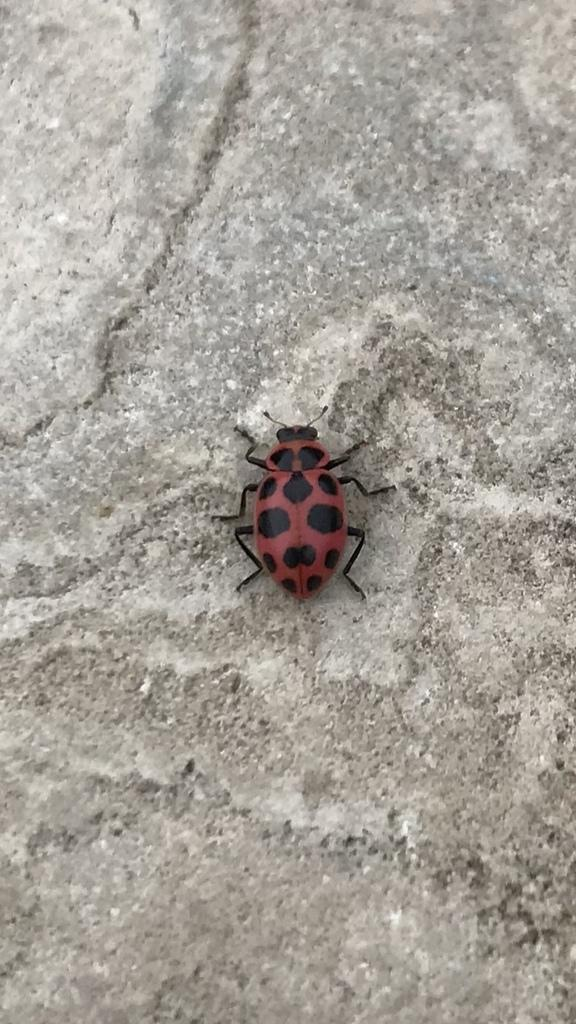ladybug: (211, 404, 404, 609)
